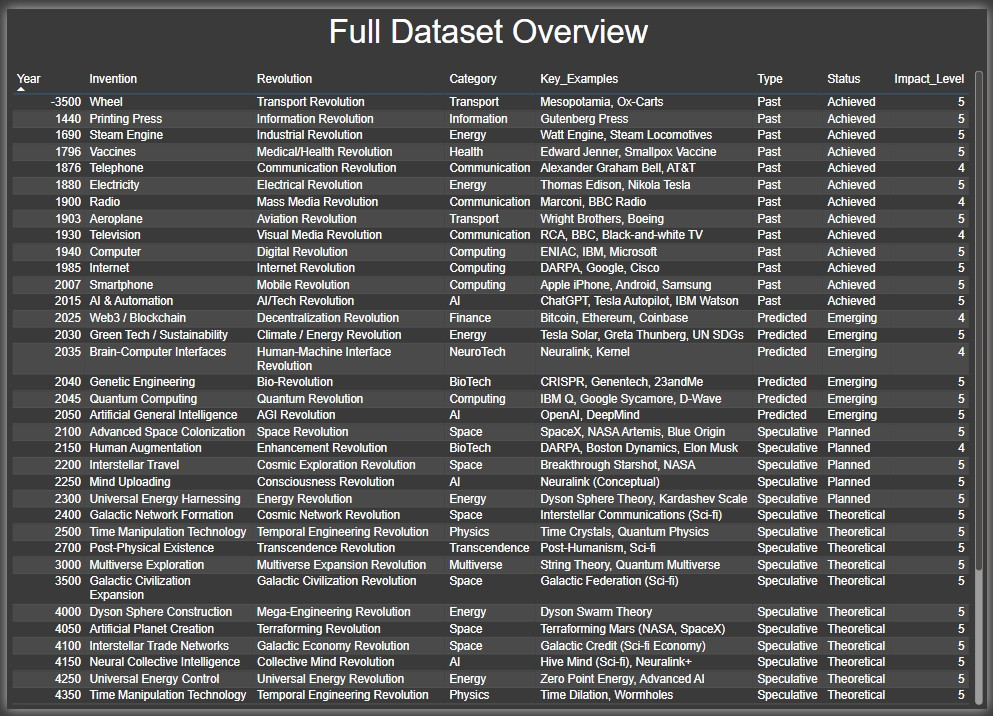

Layout of this report page (visuals, bound fields, positions):
{"tool":"powerbi","page":{"name":"Table View","canvas":[1120,800],"ordinal":2},"visuals":[{"type":"tableEx","fields":{"Values":["Technological_Revolutions_Final.Year","Technological_Revolutions_Final.Invention","Technological_Revolutions_Final.Revolution","Technological_Revolutions_Final.Category","Technological_Revolutions_Final.Key_Examples","Technological_Revolutions_Final.Type","Technological_Revolutions_Final.Status","Technological_Revolutions_Final.Impact_Level"]},"box":[0,65.7,1120,734.3],"z":0},{"type":"textbox","box":[0,0,1100,65],"z":2}]}

Visuals, with their boxes in screenshot pixels (x1, y1, x2, y2), scaled from the page's 1120x800 canvas onto the 993x716 screenshot:
tableEx - Technological_Revolutions_Final.Year x Technological_Revolutions_Final.Invention: {"x1": 0, "y1": 59, "x2": 992, "y2": 715}
textbox: {"x1": 0, "y1": 0, "x2": 975, "y2": 58}
